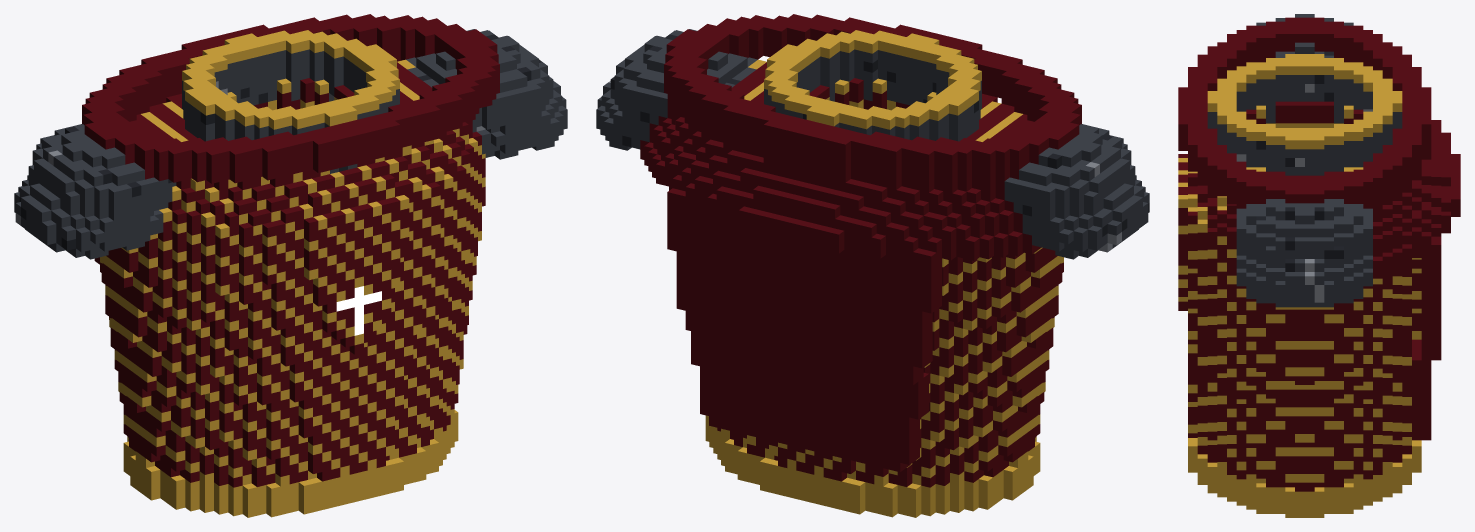
Rendered from brigandine_of_the_watch.glb.
3 views of the same model, side by side, from view 1: azimuth 30°, elevation 25°; view 2: azimuth 150°, elevation 25°; view 3: azimuth 270°, elevation 25° (orthographic). The views are drawn at different scales.
Visible parts, largest first — view 1: brigandine_of_the_watch; view 2: brigandine_of_the_watch; view 3: brigandine_of_the_watch.
Part boxes in pixels (x1=…): brigandine_of_the_watch: x1=14, y1=14, x2=567, y2=517; brigandine_of_the_watch: x1=596, y1=14, x2=1149, y2=517; brigandine_of_the_watch: x1=1178, y1=14, x2=1460, y2=517.
Size of the model in its own units: 0.684 by 0.48 by 0.348.
